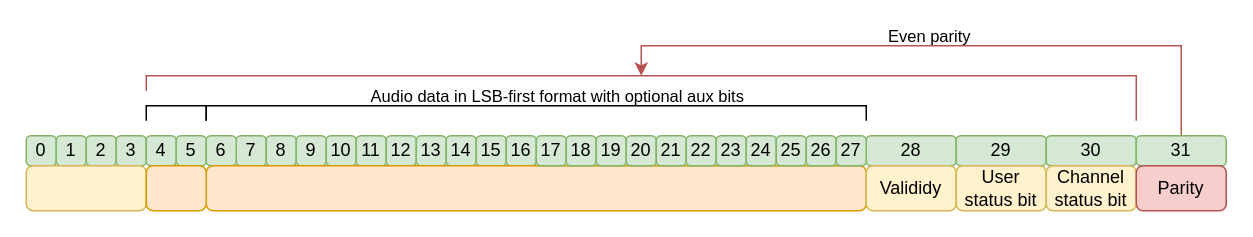
The diagram is 1253 pixels wide and 237 high, and some of its shapes have lost their labels. Here are the shapes that lost their labels. From the top down, the centre of each, then its label:
At pixel 85 187: "Preamble".
At pixel 175 187: "Index".
At pixel 535 187: "Audio data".
